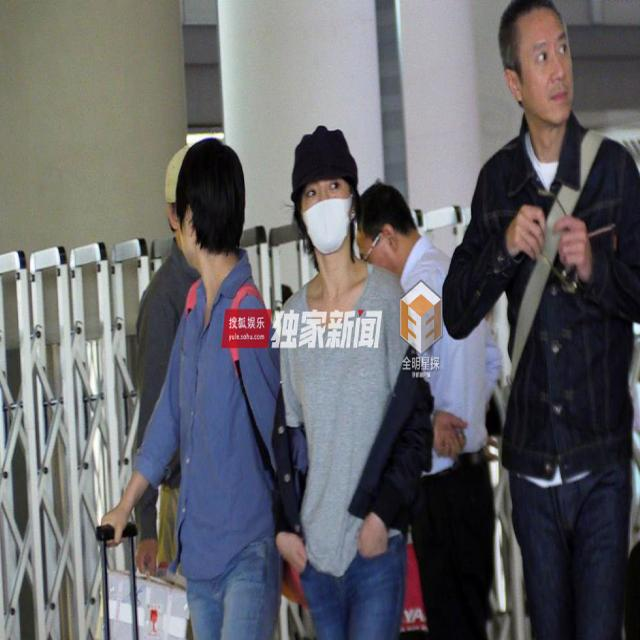mask: (304, 170, 348, 254)
nomask: (512, 9, 578, 123), (358, 226, 398, 282)
